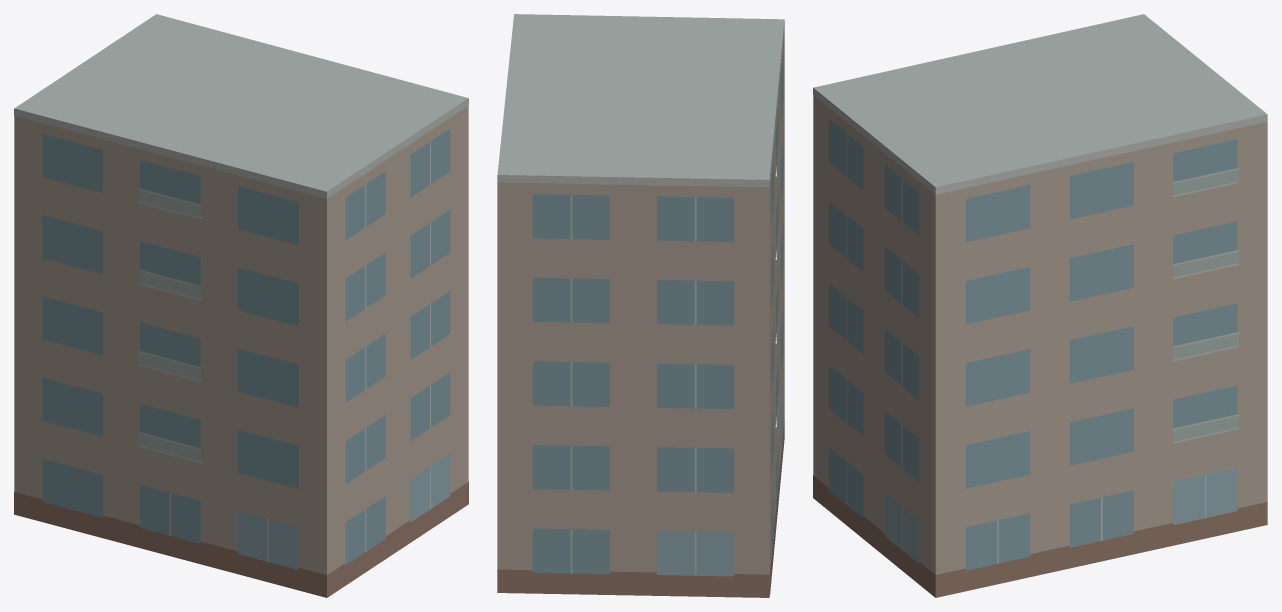
The model's file is survey-upis-32840685.glb.
3 renders of one model, left to right at view 1: azimuth 30°, elevation 25°; view 2: azimuth 150°, elevation 25°; view 3: azimuth 270°, elevation 25°, orthographic. The views are drawn at different scales.
Visible parts, largest first — view 1: survey-upis-32840685.tmp; view 2: survey-upis-32840685.tmp; view 3: survey-upis-32840685.tmp.
Boxes of the visible parts, left/top/right/bottom form: survey-upis-32840685.tmp: left=14, top=14, right=468, bottom=597; survey-upis-32840685.tmp: left=497, top=14, right=784, bottom=597; survey-upis-32840685.tmp: left=813, top=14, right=1267, bottom=597.
Size of the model in its own units: 12.37 by 13.65 by 13.7.
